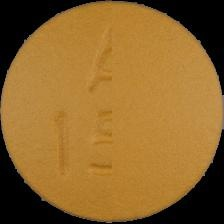63739-452: (0, 0, 224, 224)
